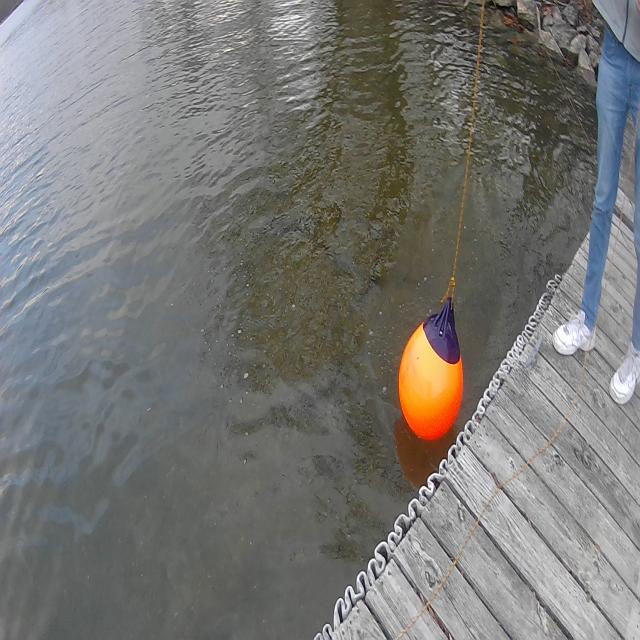Buoy: (396, 290, 468, 450)
